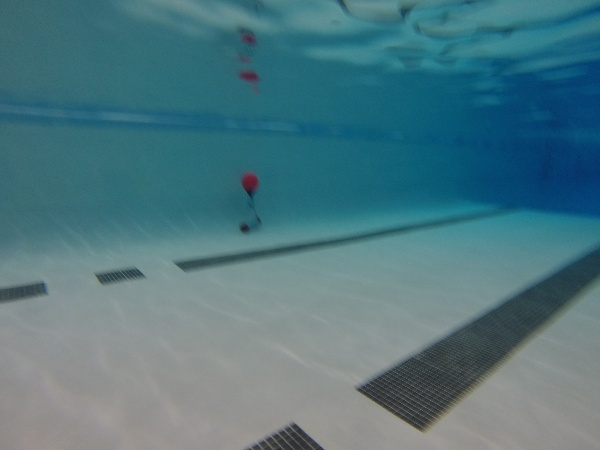buoy_red: (238, 171, 263, 196)
